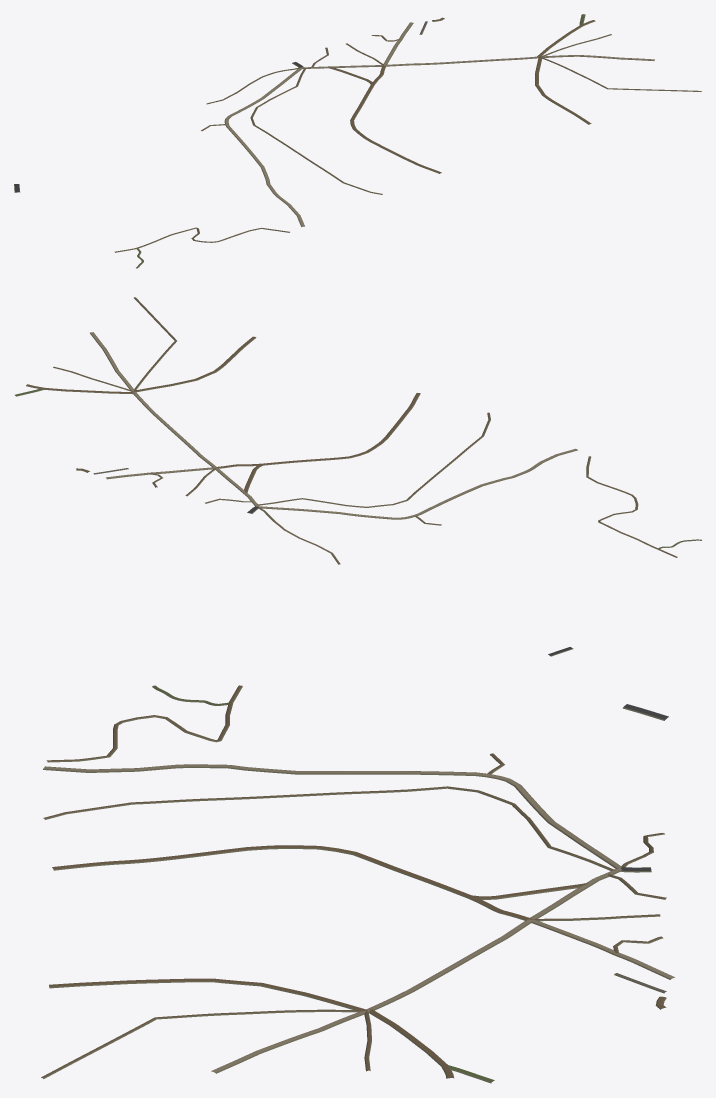
The picture shows the model from 3 angles, top to bottom: view 1: azimuth 30°, elevation 25°; view 2: azimuth 150°, elevation 25°; view 3: azimuth 270°, elevation 25°; orthographic projection. The views are drawn at different scales.
Visible parts, largest first — view 1: roads; view 2: roads; view 3: roads.
Part boxes in pixels (x1=…): roads: x1=14, y1=14, x2=701, y2=268; roads: x1=15, y1=297, x2=701, y2=656; roads: x1=41, y1=685, x2=674, y2=1083.
Size of the model in its own units: 812 by 114 by 414.
